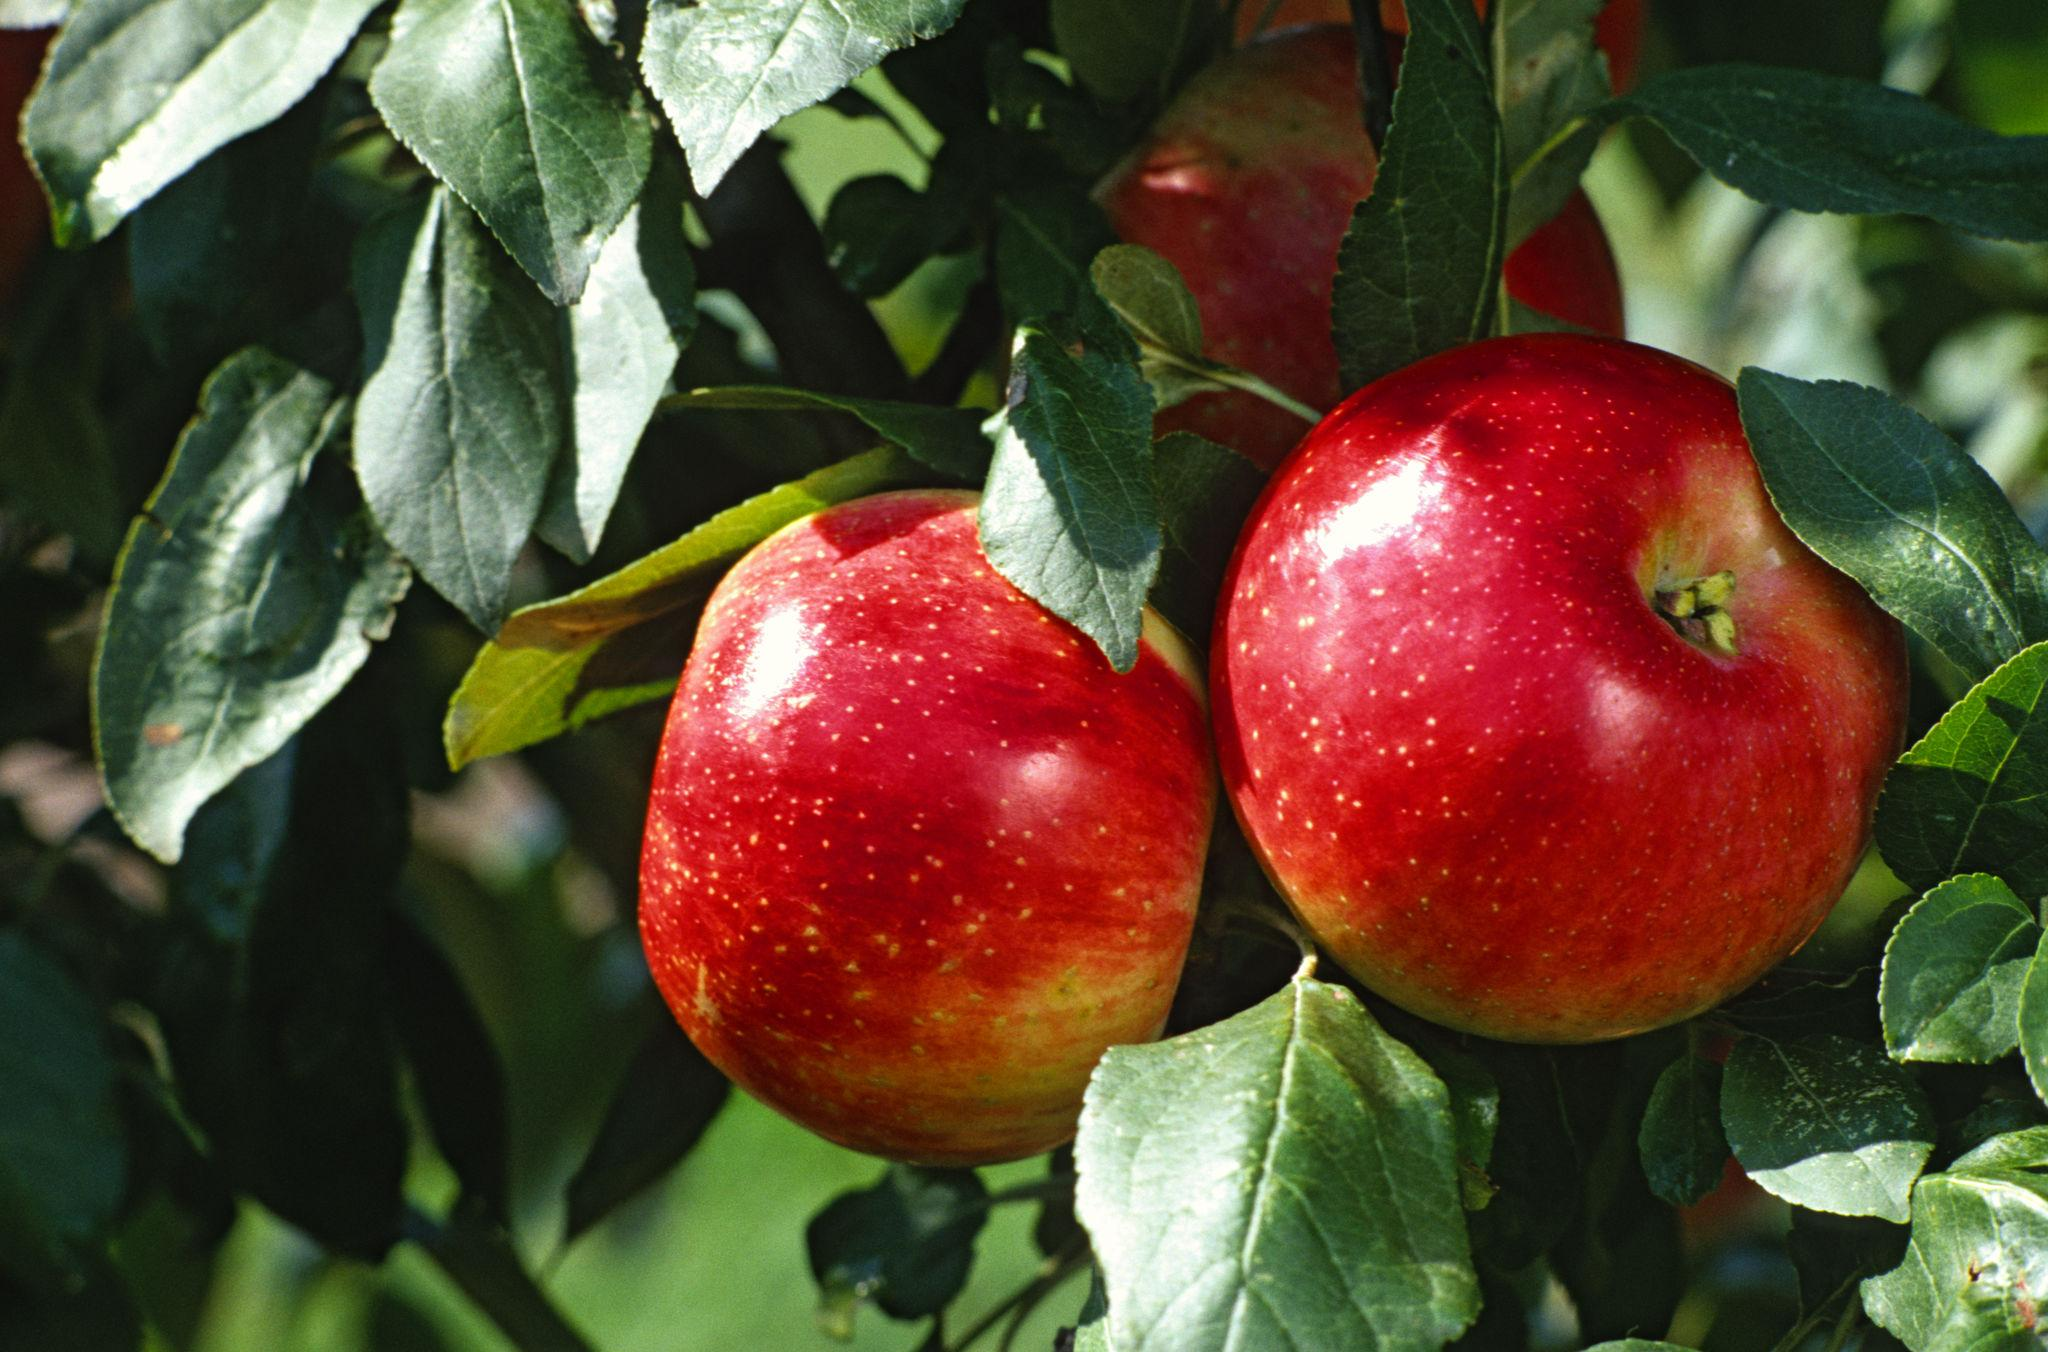apple: (1209, 323, 1927, 1053), (635, 478, 1225, 1198)
